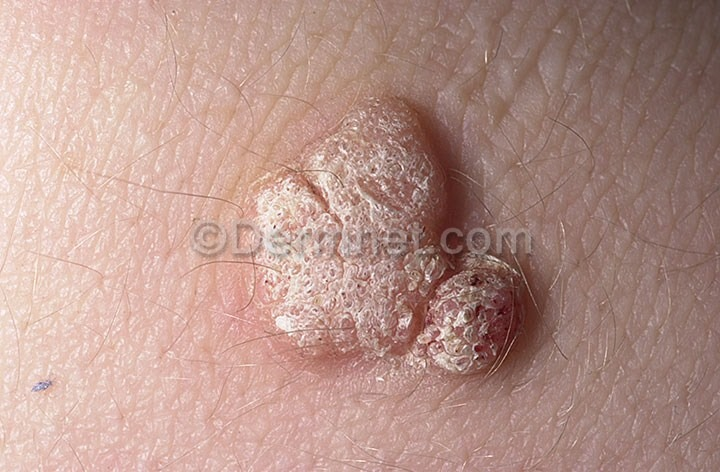Warts: (416, 256, 531, 387)
